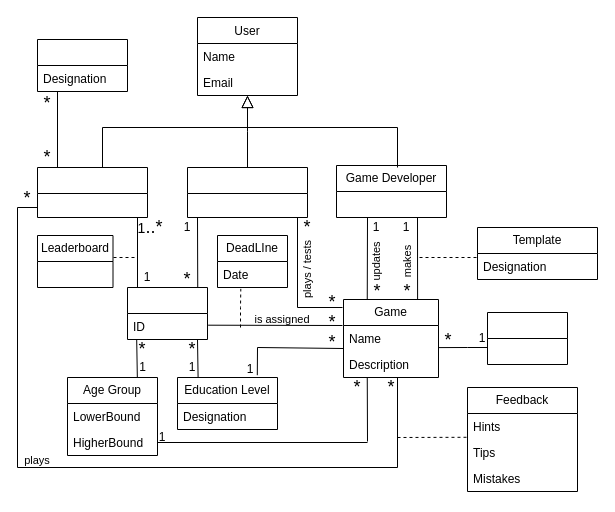
Image size: 615x512. Some labels were removed from this diagram. The box of each missing label's shape, as (x1, y1, x2, y2) in pixels:
Achievement: (36, 38, 128, 92)
Bibliography: (486, 312, 568, 364)
Class: (126, 286, 208, 340)
Student: (36, 166, 148, 218)
Teacher: (186, 166, 308, 218)
